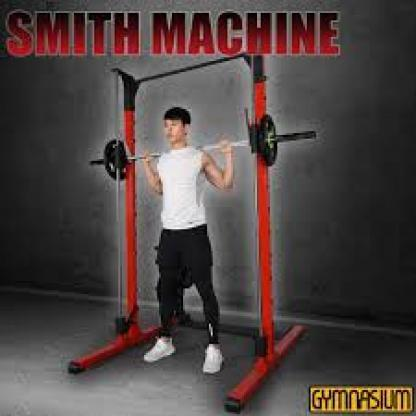smith machine: (91, 57, 309, 416)
